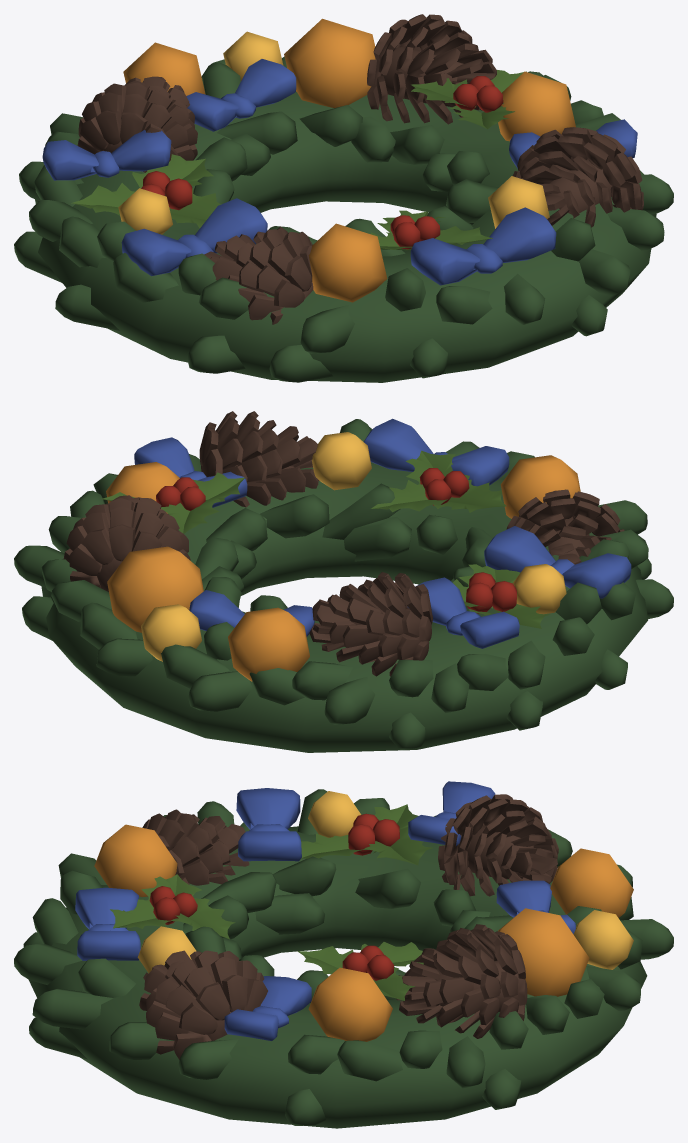
File: Wreath_01.fbx
3 views of the same model, one above another, from view 1: azimuth 30°, elevation 25°; view 2: azimuth 150°, elevation 25°; view 3: azimuth 270°, elevation 25° (orthographic). The views are drawn at different scales.
Visible parts, largest first — view 1: Wreath_01; view 2: Wreath_01; view 3: Wreath_01.
Part boxes in pixels (x1,y1,x2,y2): Wreath_01: (14, 14, 673, 382); Wreath_01: (14, 411, 673, 752); Wreath_01: (14, 781, 673, 1128).
Bounding box in the file's own units: 0.5767 × 0.162 × 0.586.
